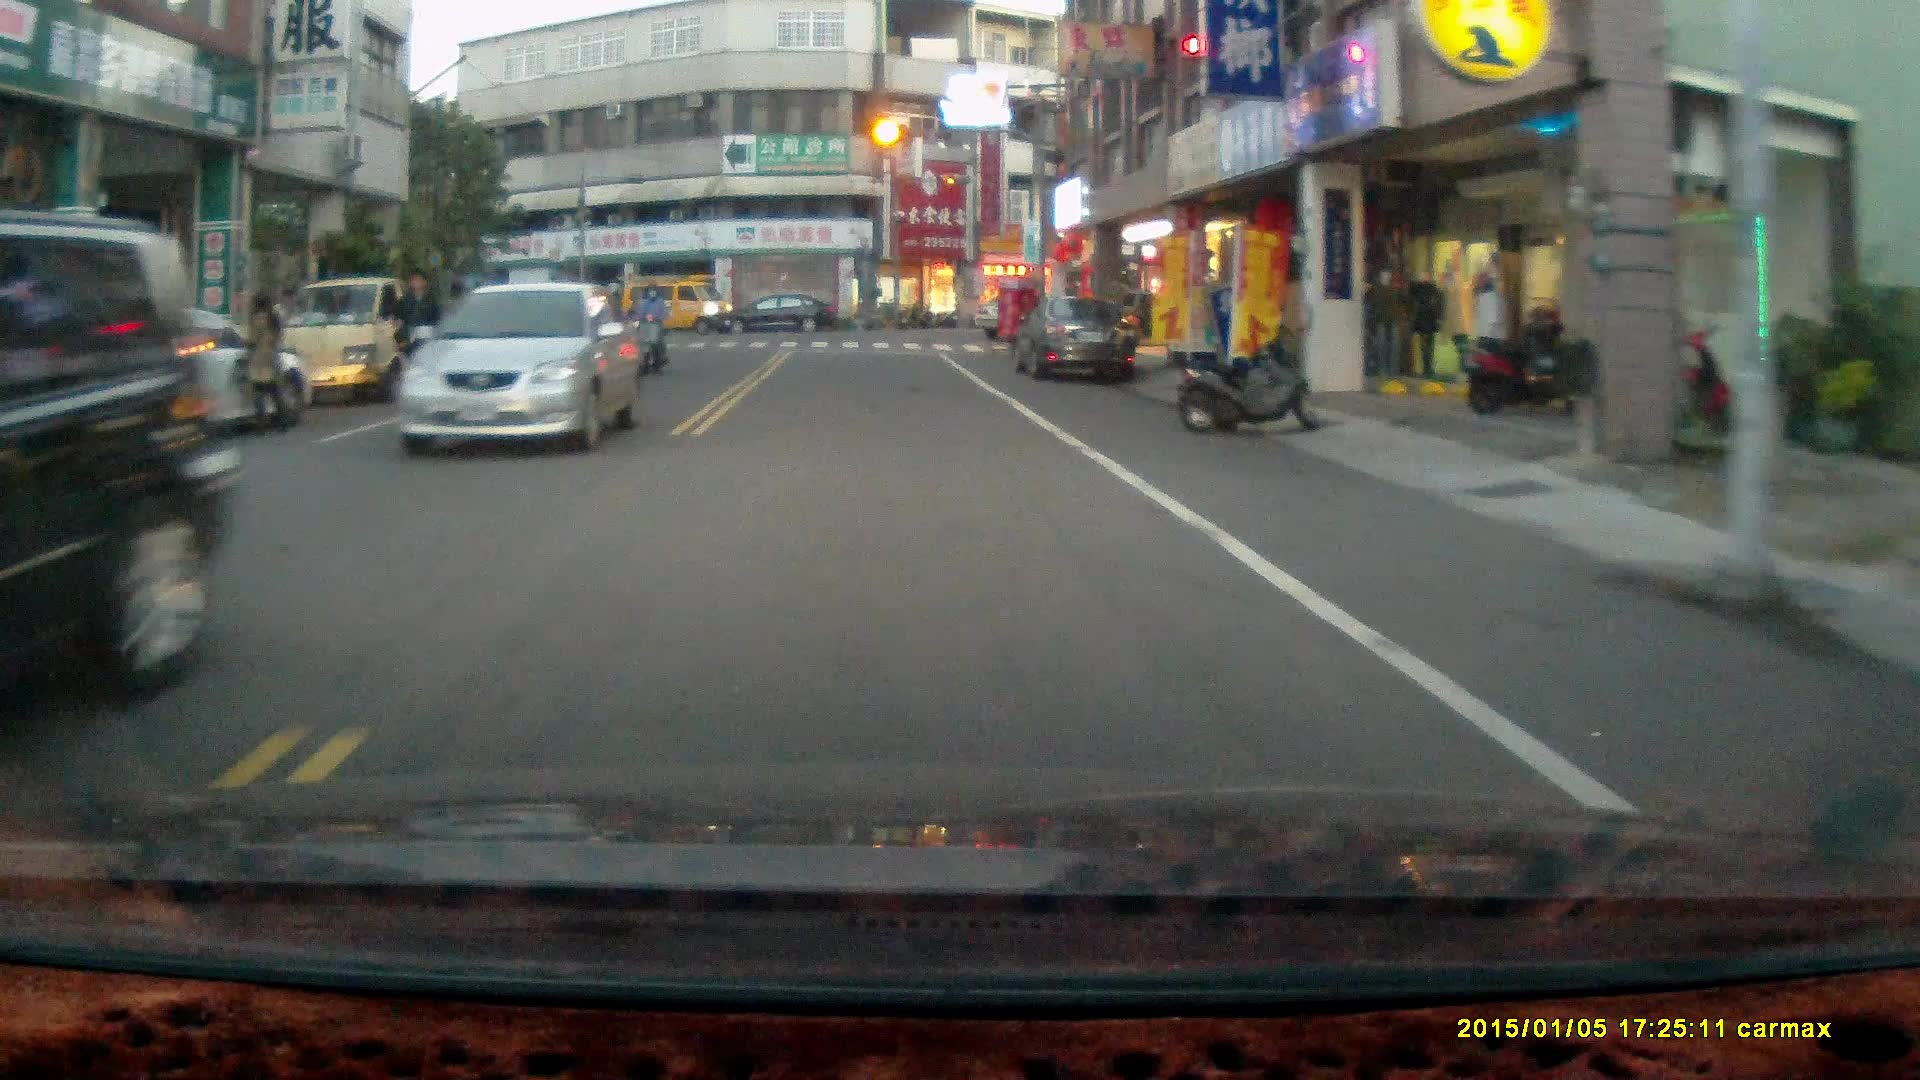pedestrian: (387, 264, 445, 411), (235, 289, 290, 438)
rider: (633, 280, 671, 376)
vehicle: (1, 236, 223, 717), (392, 279, 649, 457), (10, 302, 291, 461), (266, 277, 460, 409), (1008, 289, 1147, 389), (616, 275, 729, 336), (722, 292, 840, 337)
